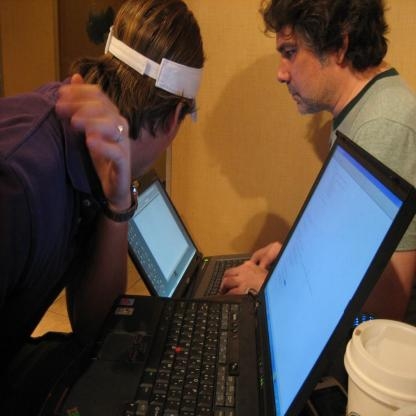board: (55, 113, 416, 416), (130, 169, 255, 298)
